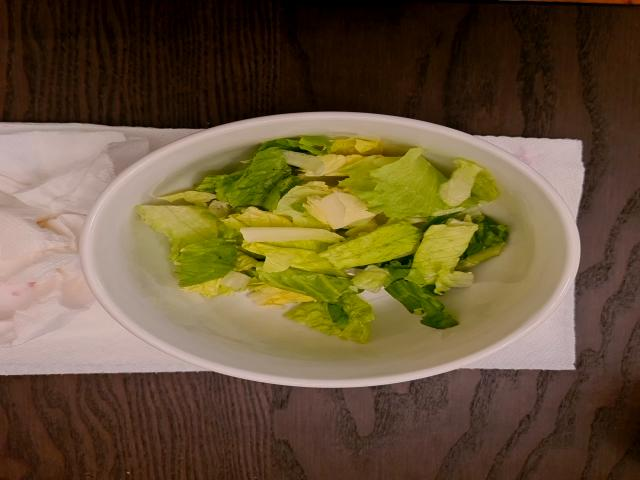kichen waste: (134, 134, 505, 342)
